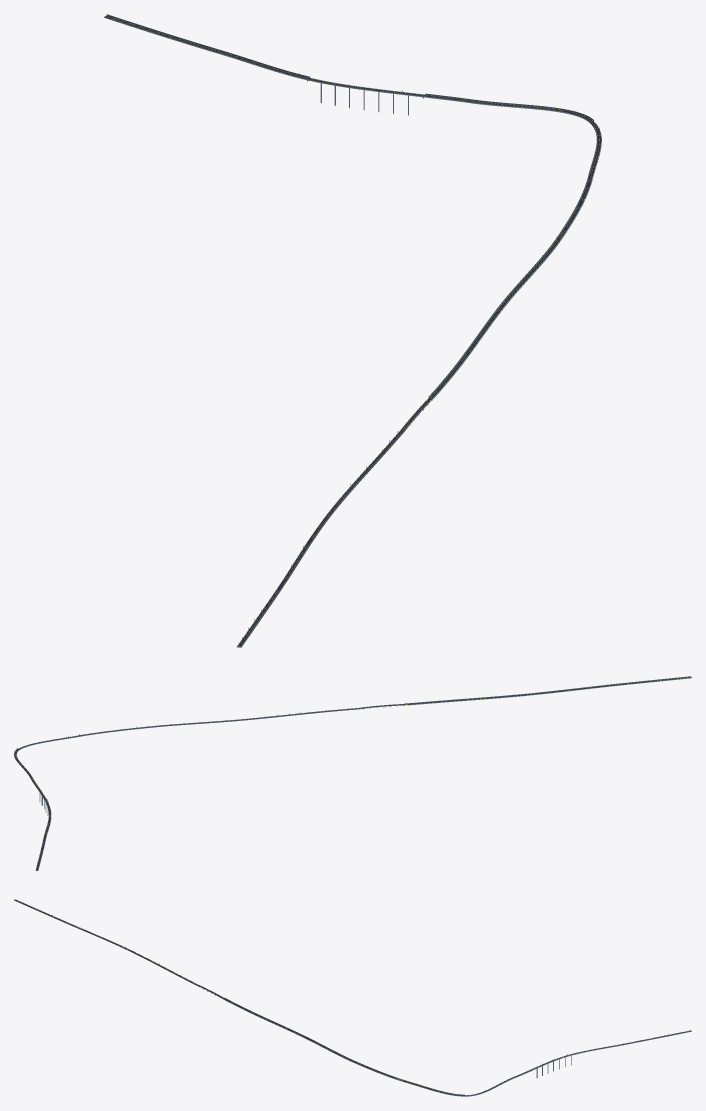
File: deo_mimosa_mountain_pass.glb
3 views of the same model, one above another, from view 1: azimuth 30°, elevation 25°; view 2: azimuth 150°, elevation 25°; view 3: azimuth 270°, elevation 25° (orthographic). The views are drawn at different scales.
Parts seen in each view (by area): view 1: DeoMimosa_Asphalt_Roadway_Surface, DeoMimosa_Shoulders_And_Subgrade_Skirt, DeoMimosa_SplitGranite_Taluy_RetainingWalls; view 2: DeoMimosa_Asphalt_Roadway_Surface, DeoMimosa_SplitGranite_Taluy_RetainingWalls, DeoMimosa_Shoulders_And_Subgrade_Skirt; view 3: DeoMimosa_Asphalt_Roadway_Surface, DeoMimosa_SplitGranite_Taluy_RetainingWalls, DeoMimosa_Shoulders_And_Subgrade_Skirt.
Boxes of the visible parts, left/top/right/bottom form: DeoMimosa_Asphalt_Roadway_Surface: left=105, top=15, right=601, bottom=646; DeoMimosa_Shoulders_And_Subgrade_Skirt: left=104, top=17, right=601, bottom=647; DeoMimosa_SplitGranite_Taluy_RetainingWalls: left=106, top=14, right=597, bottom=647; DeoMimosa_Asphalt_Roadway_Surface: left=14, top=677, right=691, bottom=870; DeoMimosa_SplitGranite_Taluy_RetainingWalls: left=14, top=676, right=691, bottom=870; DeoMimosa_Shoulders_And_Subgrade_Skirt: left=14, top=677, right=691, bottom=870; DeoMimosa_Asphalt_Roadway_Surface: left=15, top=899, right=690, bottom=1095; DeoMimosa_SplitGranite_Taluy_RetainingWalls: left=14, top=899, right=691, bottom=1096; DeoMimosa_Shoulders_And_Subgrade_Skirt: left=42, top=911, right=690, bottom=1096.
Bounding box in the file's own units: 2919 × 85.48 × 4250.
